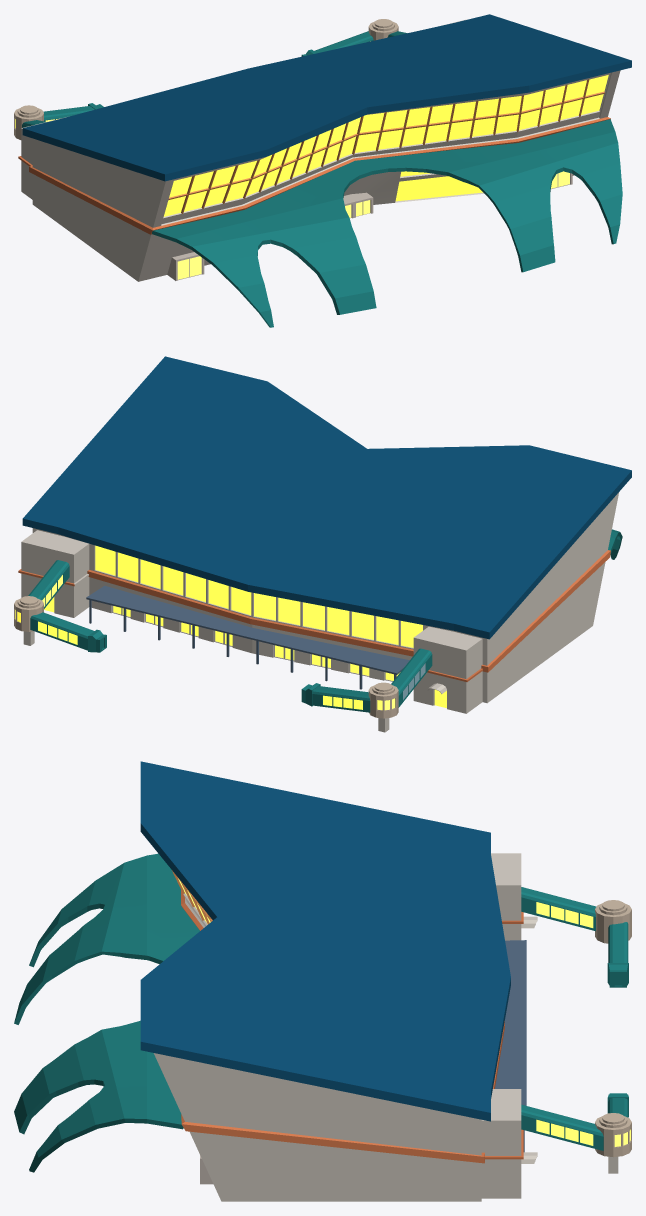
The model's file is SM_airport_building_01.glb.
3 views of the same model, one above another, from view 1: azimuth 30°, elevation 25°; view 2: azimuth 150°, elevation 25°; view 3: azimuth 270°, elevation 25° (orthographic). The views are drawn at different scales.
Visible parts, largest first — view 1: SM_airport_building_01; view 2: SM_airport_building_01; view 3: SM_airport_building_01.
Part boxes in pixels (x1,y1,x2,y2): SM_airport_building_01: [14, 14, 631, 327]; SM_airport_building_01: [14, 356, 631, 732]; SM_airport_building_01: [14, 761, 631, 1201].
Bounding box in the file's own units: 128 × 35.82 × 120.
Materials: 2 (1 with a texture image).
